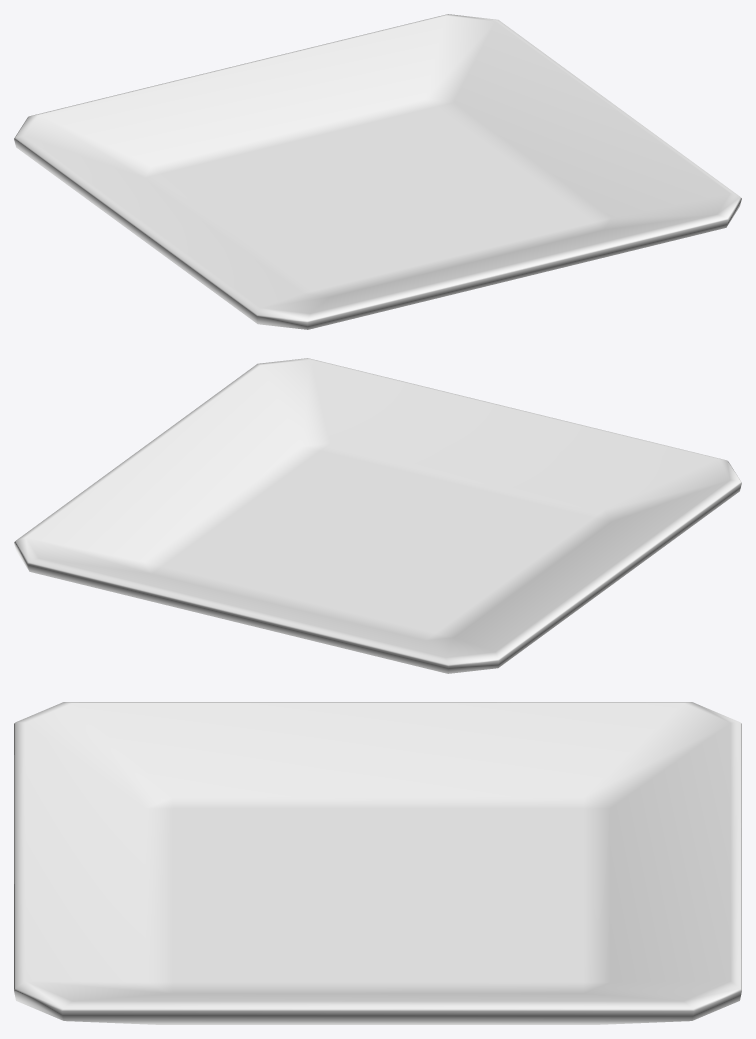
File: prop_057.fbx
3 renders of one model, top to bottom at view 1: azimuth 30°, elevation 25°; view 2: azimuth 150°, elevation 25°; view 3: azimuth 270°, elevation 25°, orthographic. The views are drawn at different scales.
Parts seen in each view (by area): view 1: prop_057; view 2: prop_057; view 3: prop_057.
Boxes of the visible parts, left/top/right/bottom form: prop_057: left=14, top=14, right=741, bottom=329; prop_057: left=14, top=358, right=741, bottom=673; prop_057: left=14, top=702, right=741, bottom=1024.
Bounding box in the file's own units: 33.97 × 33.97 × 2.91.
